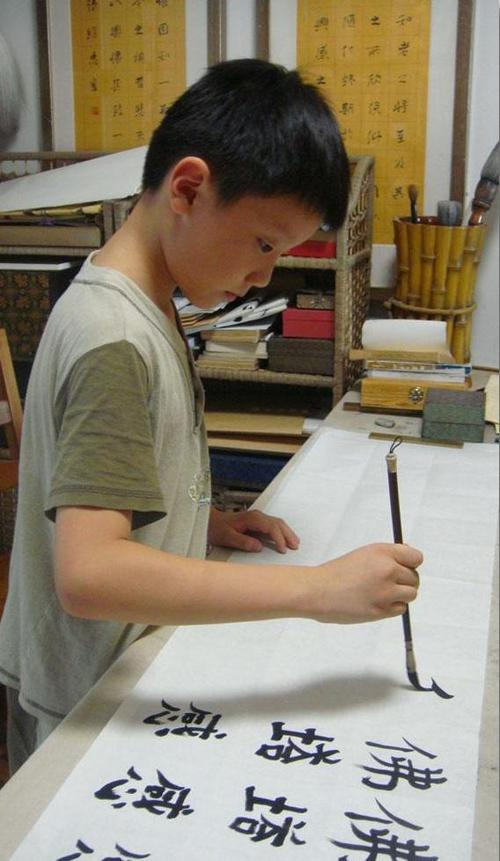person: (1, 60, 423, 782)
